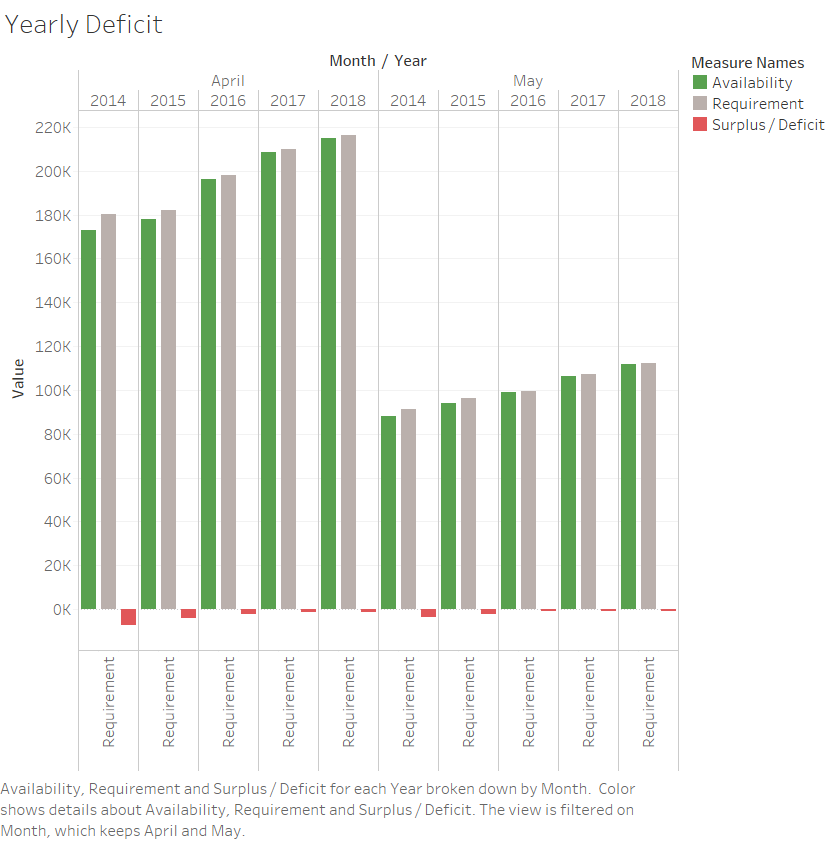

This screenshot's page, from the dashboard's own definition file:
{"tool":"tableau","page":{"name":"State and Yearly Deficit","canvas":[1000,1000],"units":"permille","ordinal":4},"visuals":[{"type":"worksheet","title":"Yearly Deficit","mark":"Automatic","cols":["Month","Year"],"box":[6.9,13.5,847.6,973]},{"type":"legend","title":"Yearly Deficit","param":"[federated.17gt29408rv4sd1elzkct1py564u].[:Measure Names]","box":[854.5,13.5,138.5,145.3]}]}

Visuals, with their boxes on the dashboard's canvas, which has no fixed pixel size, in thousandths of its width and height (x1, y1, x2, y2). These are canvas units, not pixel positions in the 830x842 screenshot, which may show the page scaled, cropped or inside an application window:
"Yearly Deficit" worksheet: 7:14:854:986
"Yearly Deficit" legend: 854:14:993:159
